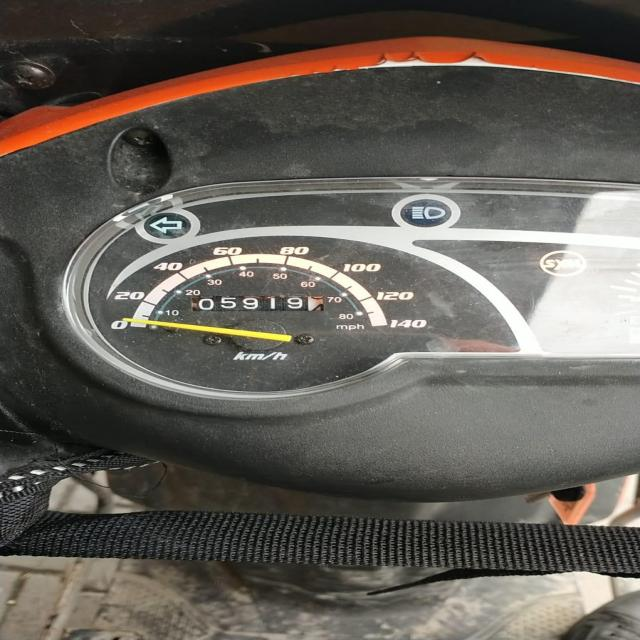odometer: (190, 295, 326, 311)
